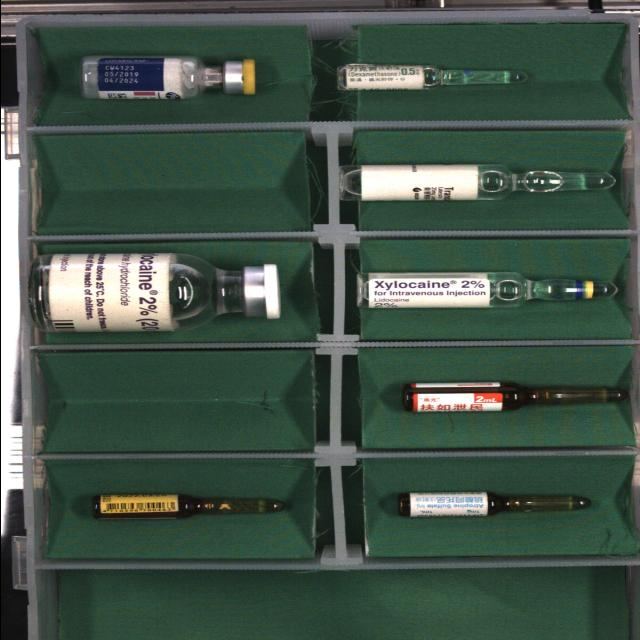Vials: (29, 250, 279, 332), (79, 55, 254, 100)
